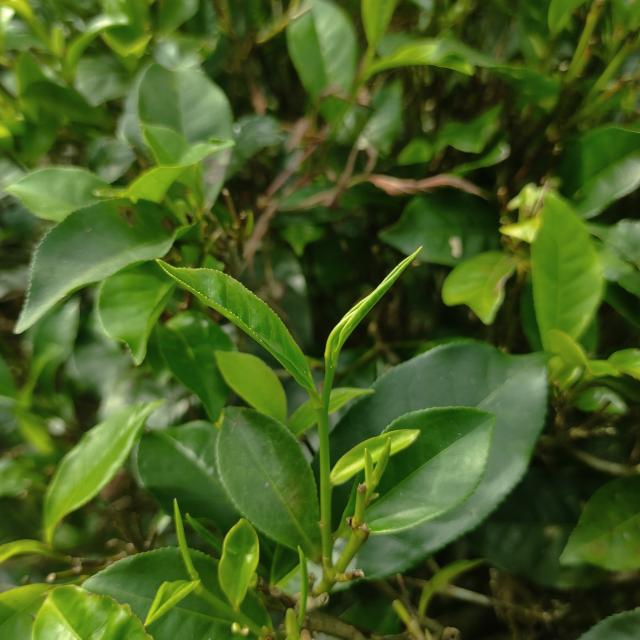unopened_leaf: (320, 239, 427, 382), (166, 492, 205, 584), (290, 538, 316, 634), (180, 509, 228, 557), (367, 434, 399, 494), (362, 446, 381, 496)
